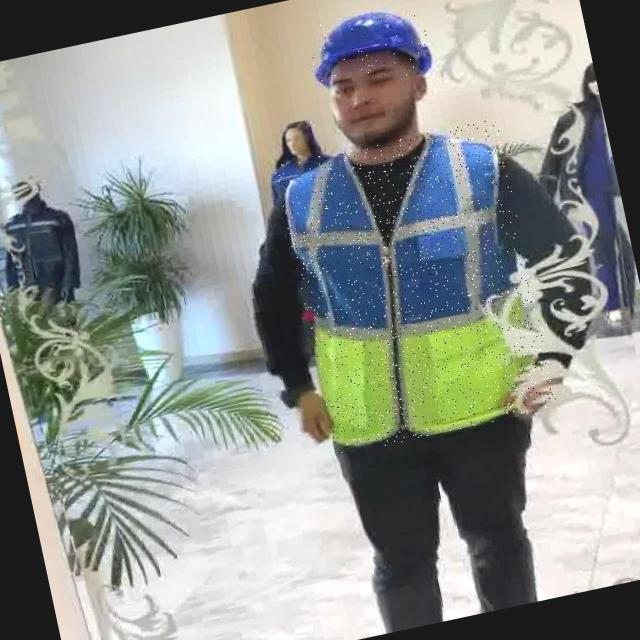helmet: (304, 1, 438, 94)
no-gloves: (278, 370, 344, 458)
vest: (274, 118, 559, 456)
